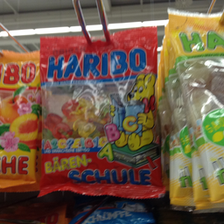candy: (37, 32, 164, 201), (161, 9, 224, 198), (1, 49, 43, 189)
